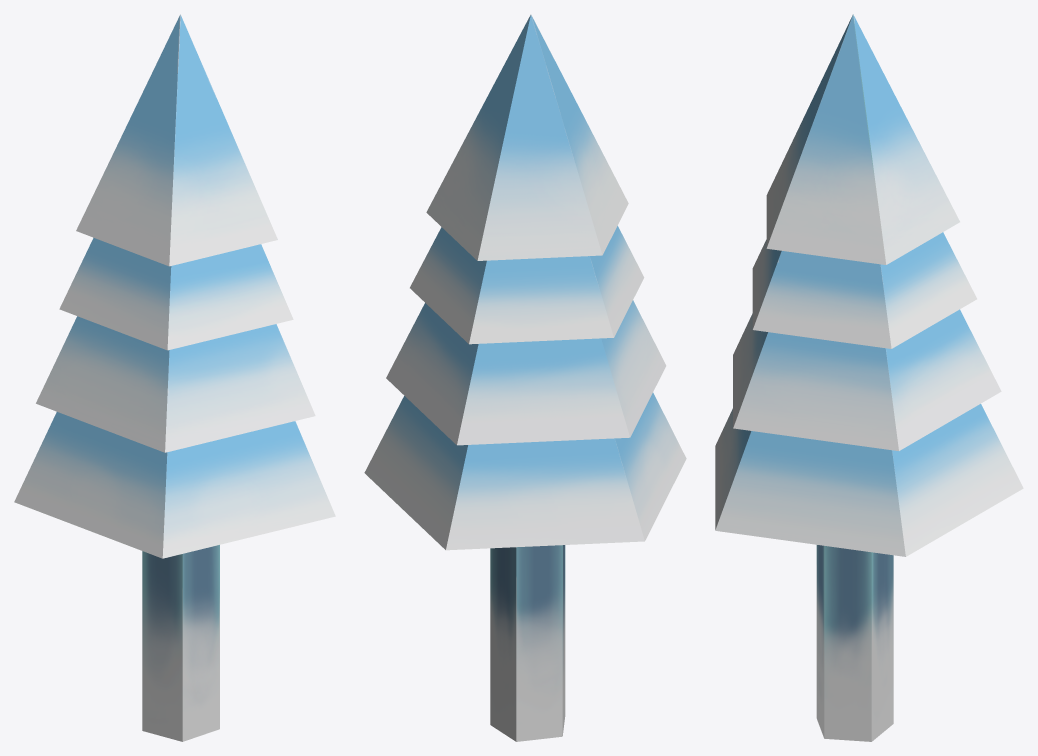
File: pinheiro-alto.fbx
3 views of the same model, side by side, from view 1: azimuth 30°, elevation 25°; view 2: azimuth 150°, elevation 25°; view 3: azimuth 270°, elevation 25° (orthographic).
Visible parts, largest first — view 1: pinheiro-alto; view 2: pinheiro-alto; view 3: pinheiro-alto.
Boxes of the visible parts, x1,y1,x2,y2 form: pinheiro-alto: (14, 14, 335, 741); pinheiro-alto: (364, 14, 686, 741); pinheiro-alto: (715, 14, 1023, 741).
Bounding box in the file's own units: 166 × 402 × 158.
